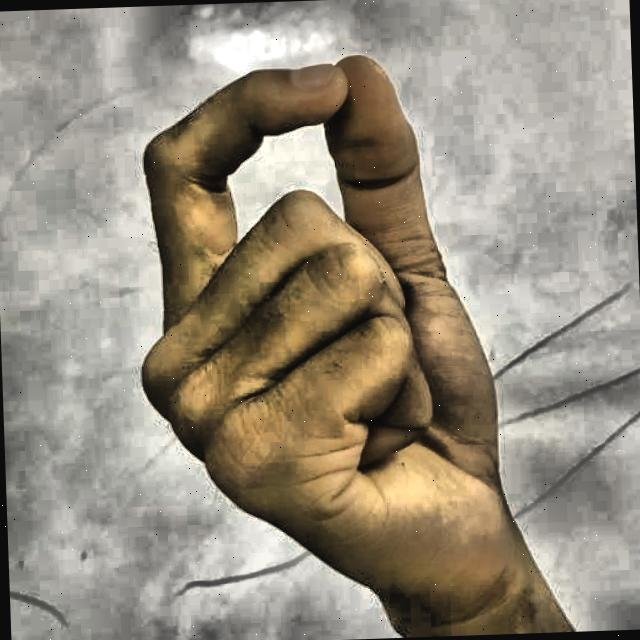Gha: (87, 26, 585, 640)
